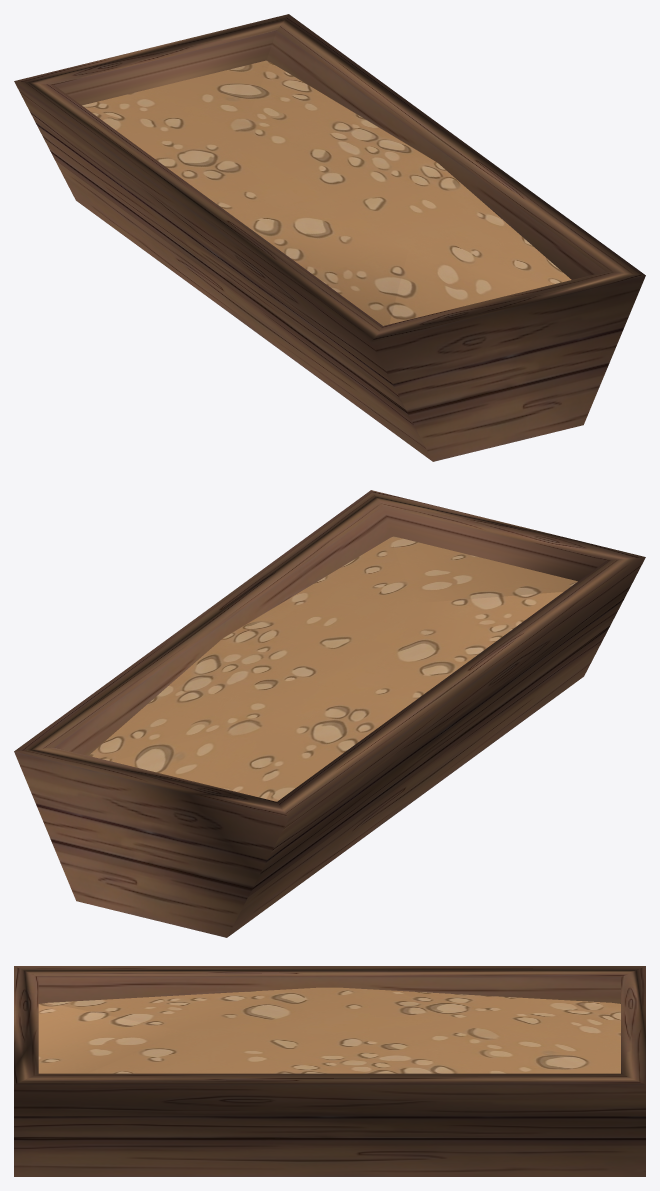
The model's file is AnimalFoodFull.glb.
The picture shows the model from 3 angles, top to bottom: view 1: azimuth 30°, elevation 25°; view 2: azimuth 150°, elevation 25°; view 3: azimuth 270°, elevation 25°; orthographic projection. The views are drawn at different scales.
Parts seen in each view (by area): view 1: AnimalFoodFull; view 2: AnimalFoodFull; view 3: AnimalFoodFull.
Part boxes in pixels (x1,y1,x2,y2): AnimalFoodFull: (14, 14, 645, 461); AnimalFoodFull: (14, 490, 645, 937); AnimalFoodFull: (14, 966, 645, 1176).
Size of what is drawn, in the model's own units: 1.32 by 0.6196 by 2.98.
1 material, 1 textured.
